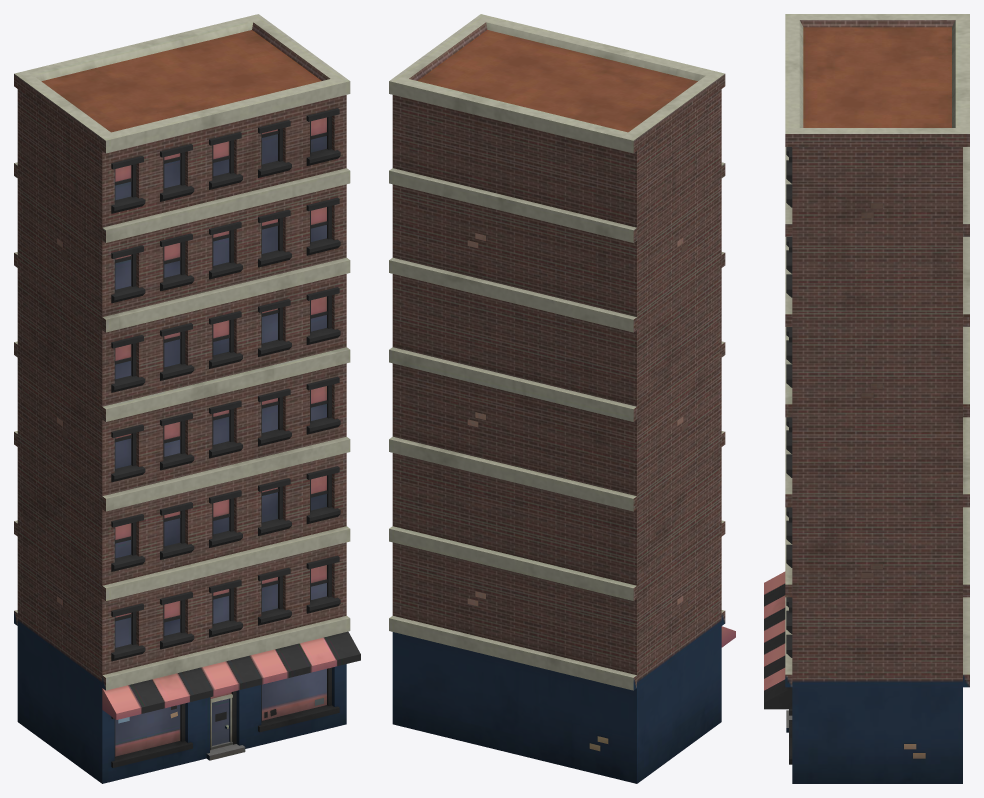
Rendered from building_E_8f.glb.
3 renders of one model, left to right at view 1: azimuth 30°, elevation 25°; view 2: azimuth 150°, elevation 25°; view 3: azimuth 270°, elevation 25°, orthographic.
Parts seen in each view (by area): view 1: ground; view 2: ground; view 3: ground.
Part boxes in pixels (x1,y1,x2,y2): ground: (14, 14, 360, 783); ground: (389, 14, 735, 783); ground: (764, 14, 969, 783).
Size of the model in its own units: 2.01 by 5.05 by 1.45.
Materials: 2 (2 with a texture image).
